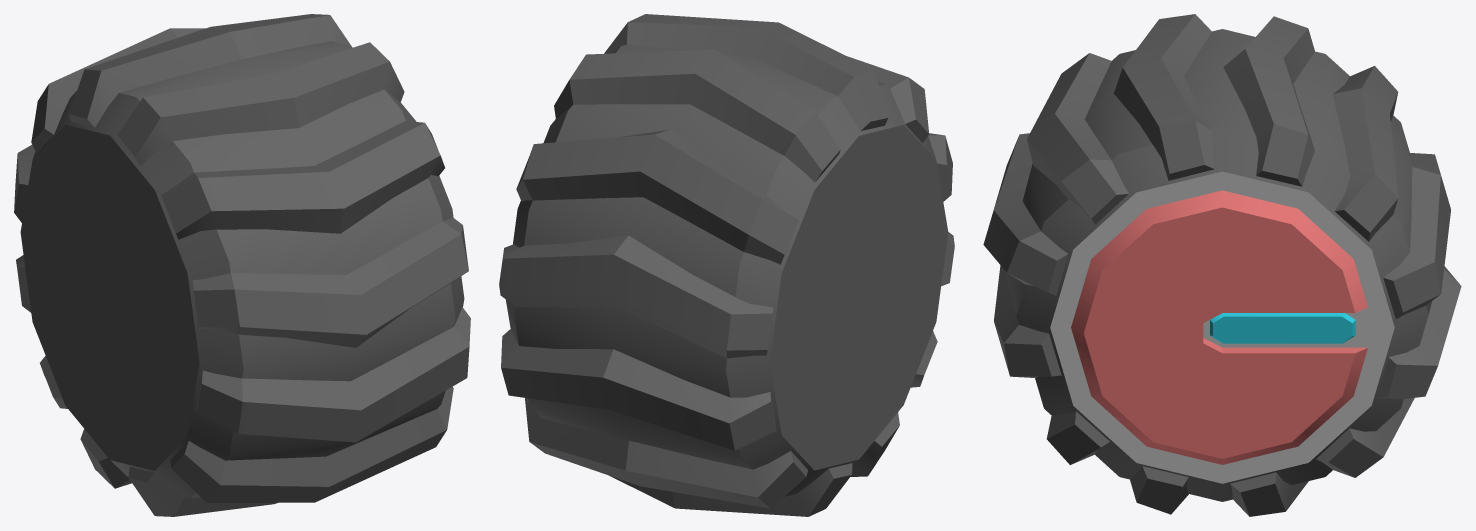
Rendered from WheelLeft_001.fbx.
3 renders of one model, left to right at view 1: azimuth 30°, elevation 25°; view 2: azimuth 150°, elevation 25°; view 3: azimuth 270°, elevation 25°, orthographic. The views are drawn at different scales.
Visible parts, largest first — view 1: WheelLeft_001; view 2: WheelLeft_001; view 3: WheelLeft_001.
Boxes of the visible parts, x1,y1,x2,y2 form: WheelLeft_001: (14, 14, 470, 516); WheelLeft_001: (499, 14, 954, 516); WheelLeft_001: (983, 14, 1461, 516).
Size of the model in its own units: 89.06 by 137 by 137.
